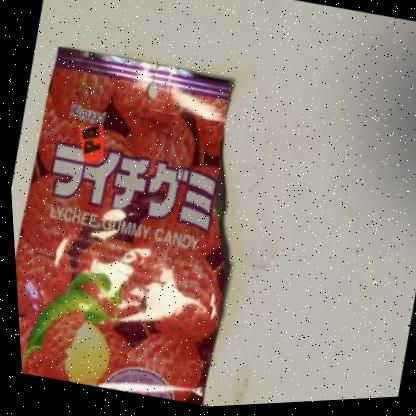Plastic: (12, 47, 232, 407)
